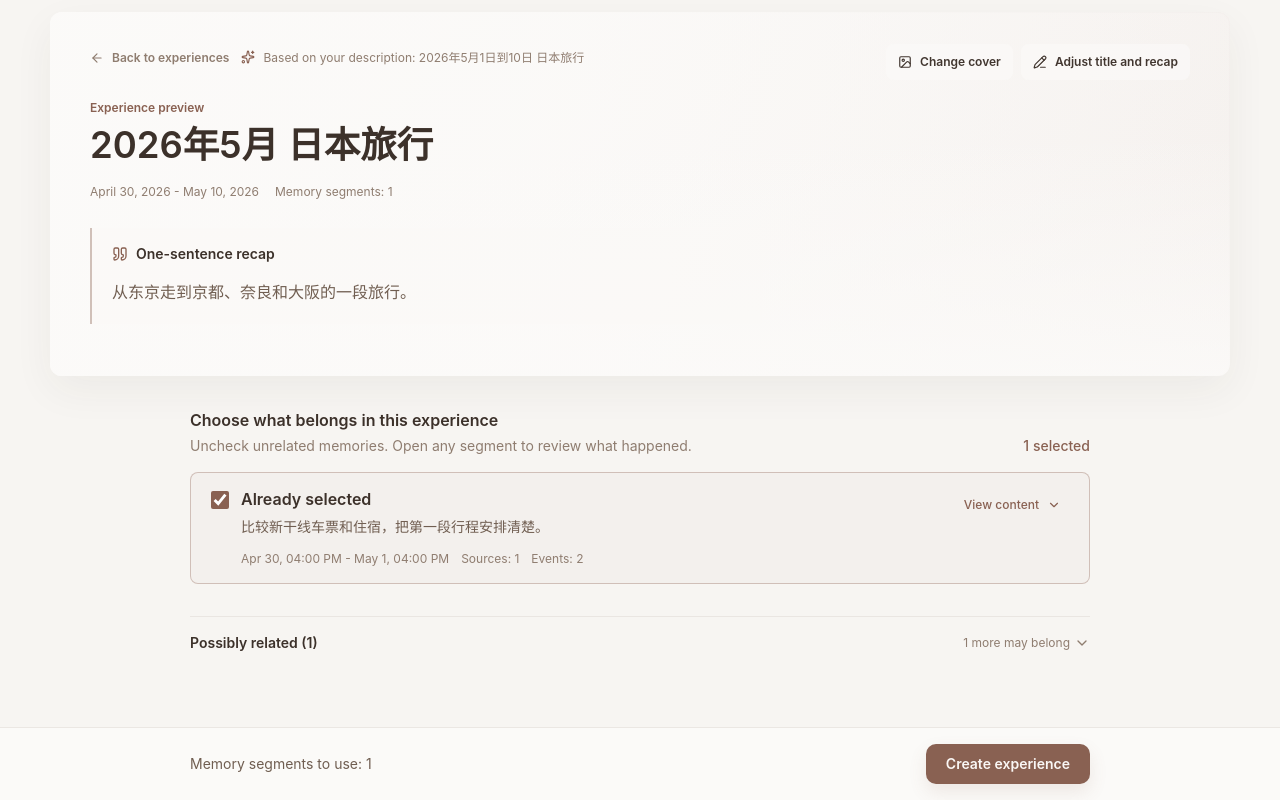
Test: MemoryEpisodesPage › invalidates the original count when only part of a segment can be restored
Click the text "Possibly related (1)": [254, 643] box [190, 633, 318, 653]
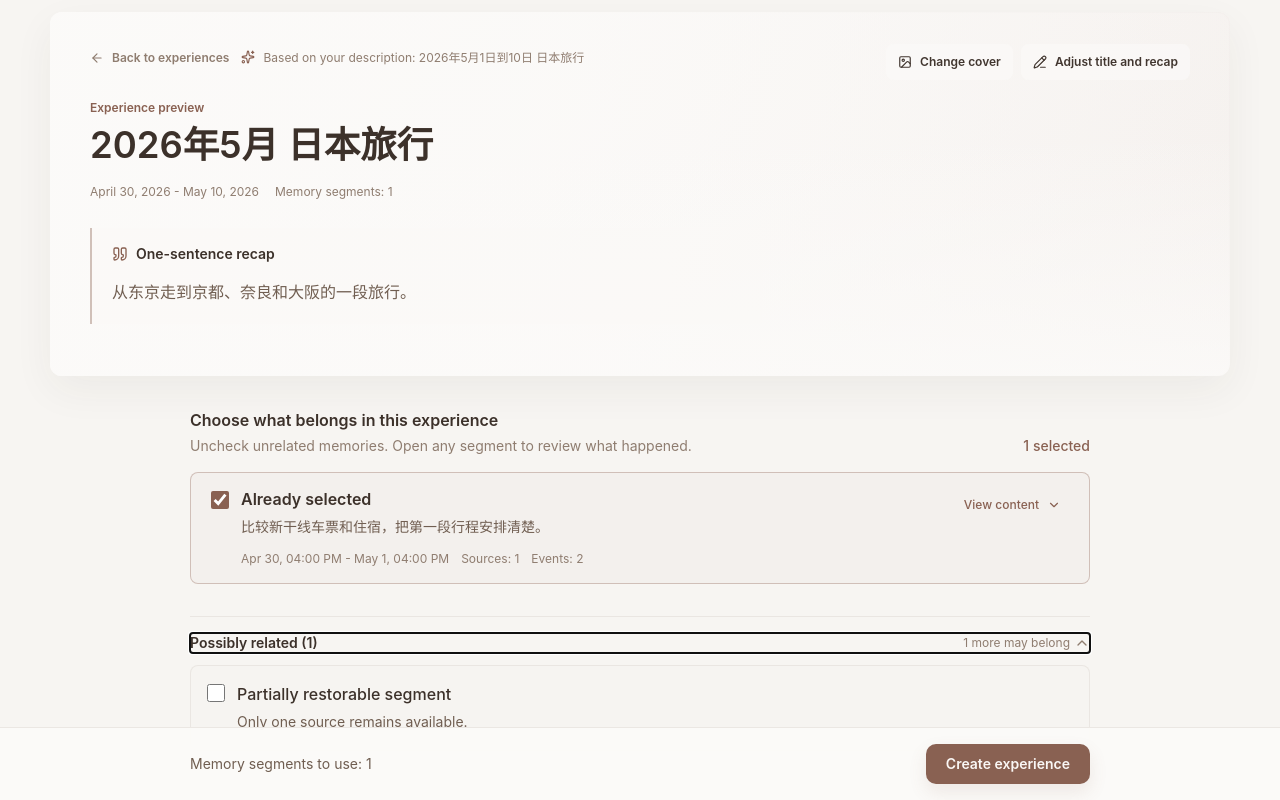
Click the checkbox labelled "Partially restorable segment": [216, 693] box [207, 684, 225, 702]
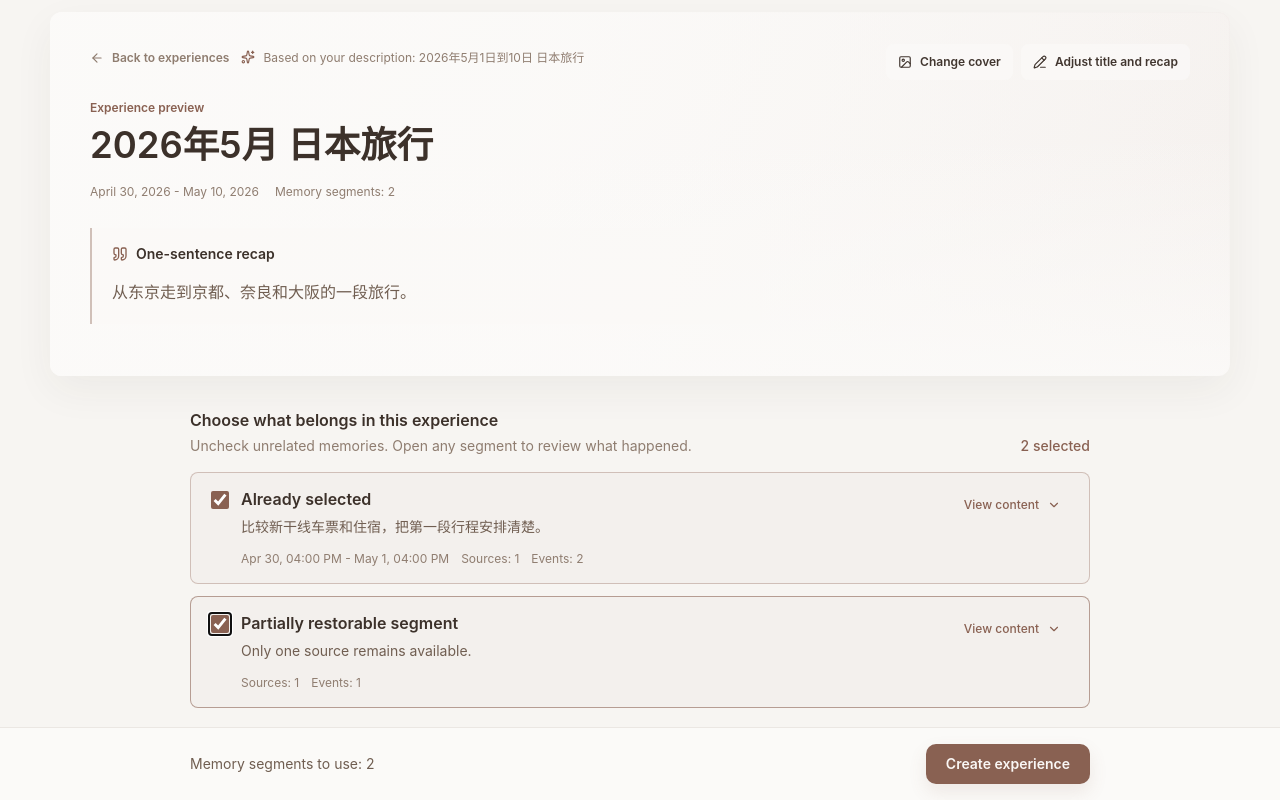
Now the text "Partially restorable segment" is shown, box [241, 613, 458, 633]
Now the text "Events: 1" is shown, box [311, 675, 361, 691]
